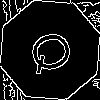Q: (25, 25, 84, 77)
